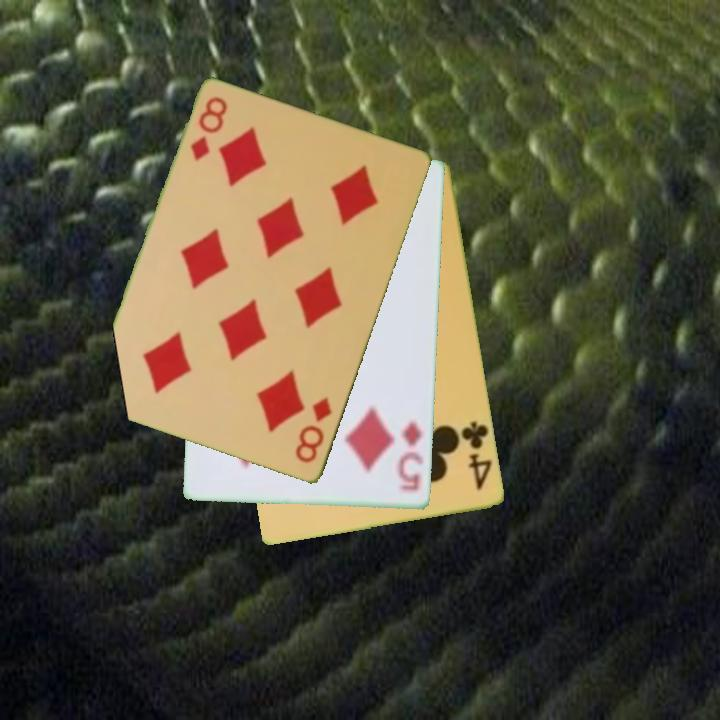4c: (458, 418, 495, 493)
5d: (396, 418, 426, 494)
8d: (292, 393, 335, 467), (187, 93, 230, 165)
